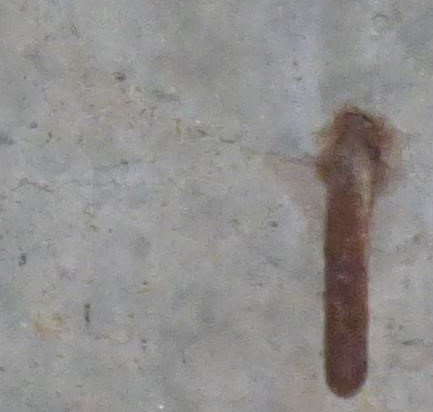Exposed reinforcement: (323, 126, 379, 400)
